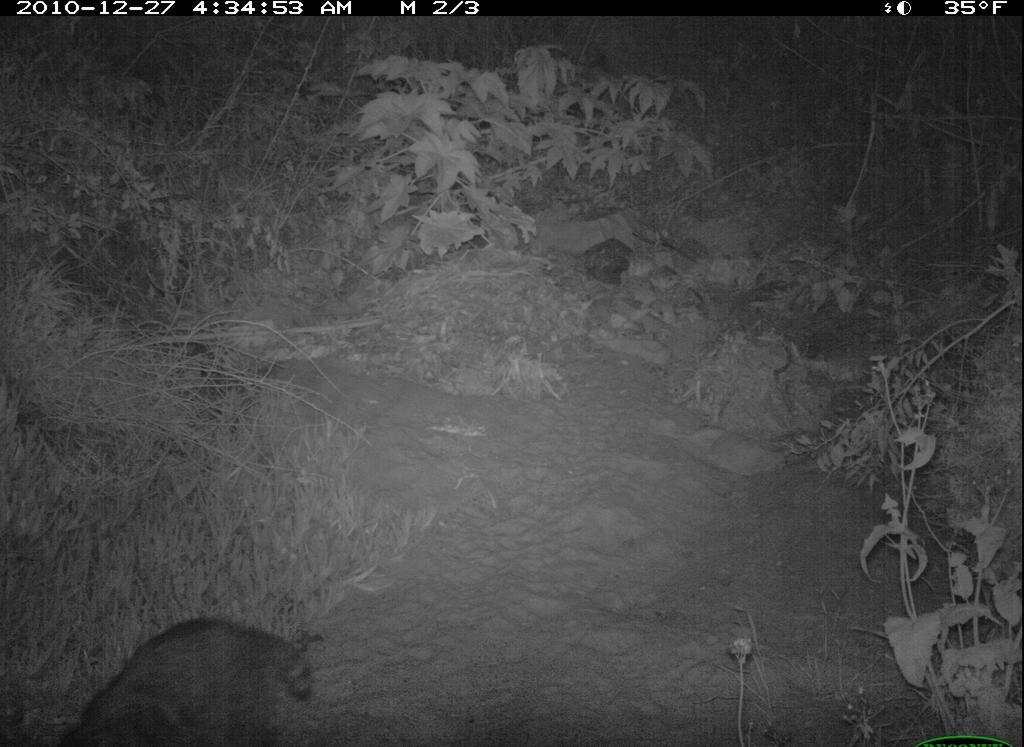raccoon: (48, 615, 335, 745)
